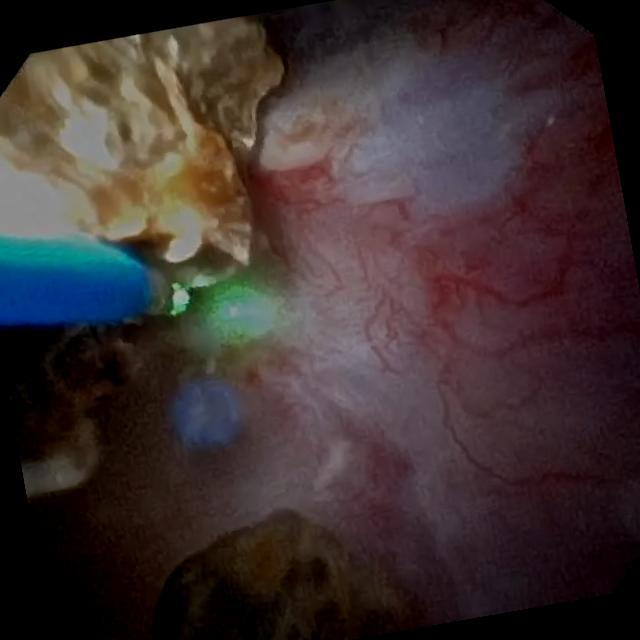laser-fibre: (149, 271, 187, 315)
laser_dot: (208, 282, 273, 337)
stone-new: (0, 17, 281, 270), (152, 509, 414, 640), (0, 327, 130, 500)
